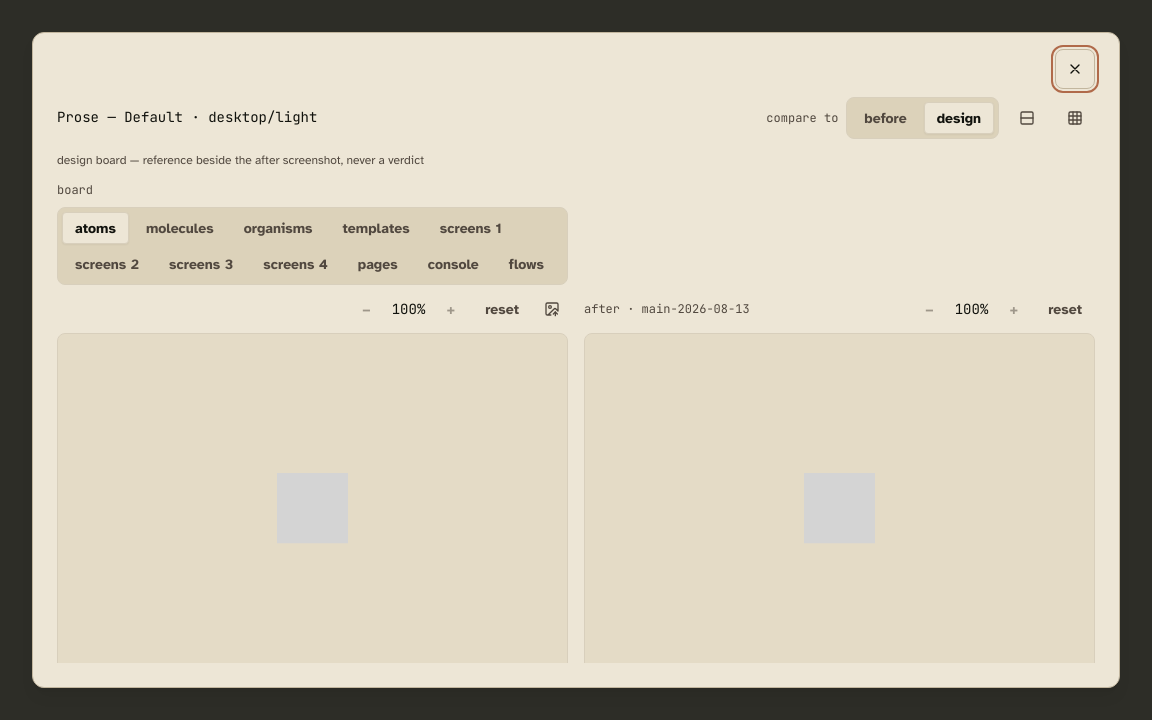
Test: the design view › the split toggle › stacks the board over the screenshot when pressed, and offers the way back
Click the button named "stack the board over the screenshot" at (1027, 118), box [1007, 98, 1047, 138]
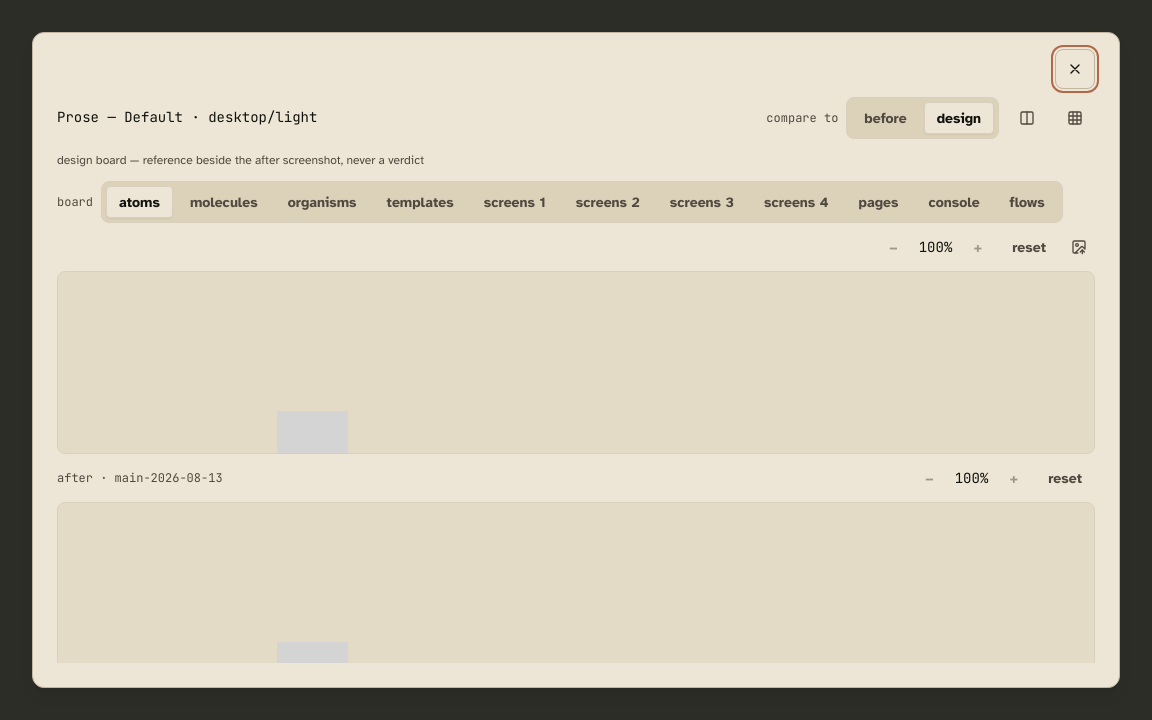
Now the button named "put the board beside the screenshot" is shown, box [1007, 98, 1047, 138]
